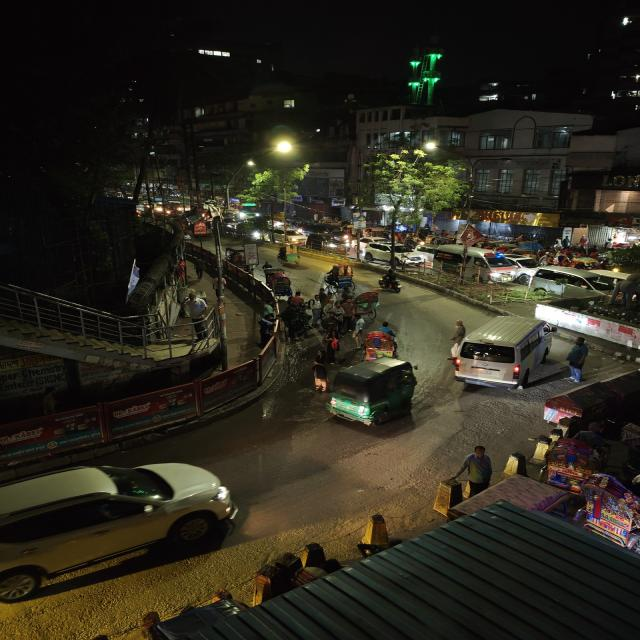car: (0, 459, 247, 616), (443, 314, 560, 392), (526, 264, 639, 300), (358, 239, 429, 269), (470, 256, 524, 284)
cng: (326, 357, 424, 429)
motorcycle: (377, 269, 405, 295)
pedestrian: (303, 352, 334, 396), (565, 338, 591, 381), (319, 313, 344, 347), (307, 294, 325, 326), (289, 290, 309, 314)
rickshaw: (530, 426, 606, 492), (359, 320, 402, 360), (261, 262, 295, 298), (322, 263, 358, 293), (352, 290, 383, 320)
